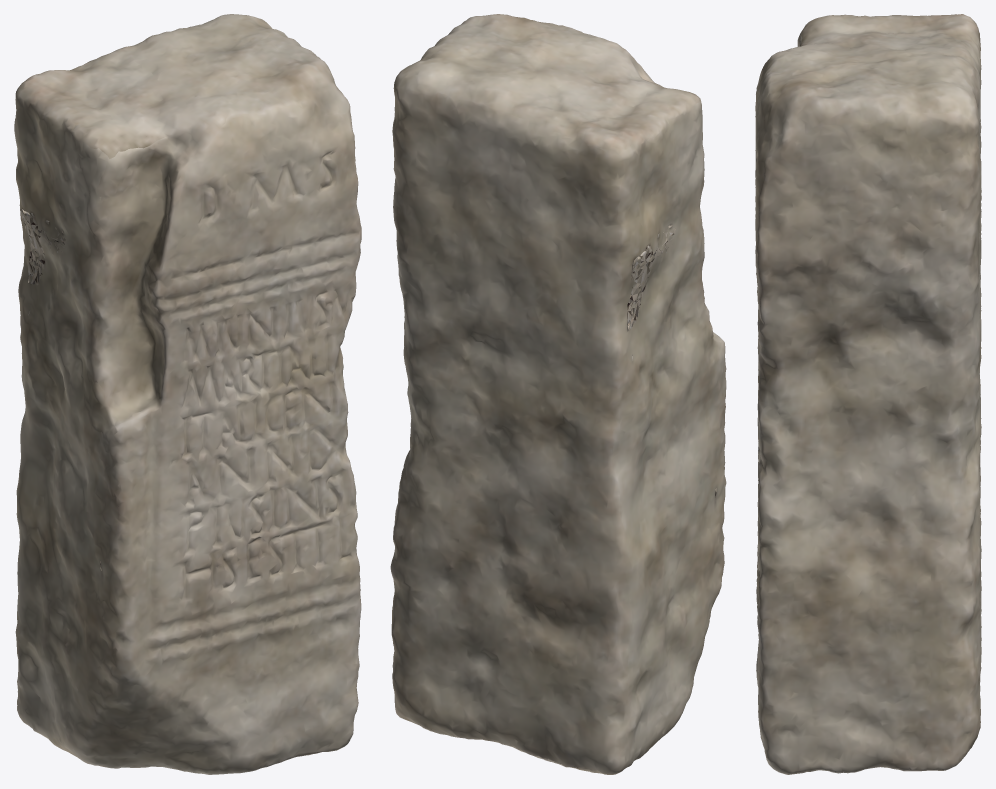
File: 12_INS_martialis.glb
3 renders of one model, left to right at view 1: azimuth 30°, elevation 25°; view 2: azimuth 150°, elevation 25°; view 3: azimuth 270°, elevation 25°, orthographic.
Parts seen in each view (by area): view 1: M_IVNIVS_LP; view 2: M_IVNIVS_LP; view 3: M_IVNIVS_LP.
Boxes of the visible parts, x1=… form: M_IVNIVS_LP: x1=14, y1=14, x2=361, y2=774; M_IVNIVS_LP: x1=390, y1=14, x2=726, y2=774; M_IVNIVS_LP: x1=755, y1=14, x2=981, y2=774.
Bounding box in the file's own units: 0.1992 × 0.5172 × 0.1569.
1 material, 1 textured.
